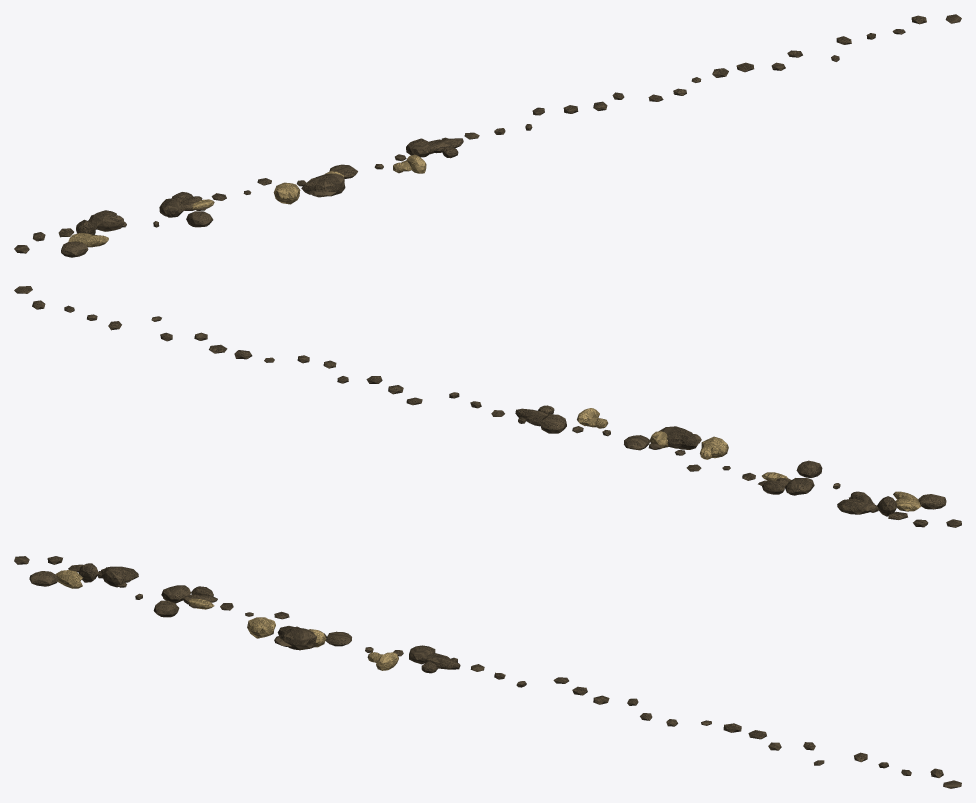
File: south-east-shore.glb
3 renders of one model, top to bottom at view 1: azimuth 30°, elevation 25°; view 2: azimuth 150°, elevation 25°; view 3: azimuth 330°, elevation 25°, orthographic.
Visible parts, largest first — view 1: south-east-shore; view 2: south-east-shore; view 3: south-east-shore.
Boxes of the visible parts, box(x1,y1,x2,y2) form: south-east-shore: box(14, 14, 961, 257); south-east-shore: box(14, 286, 961, 527); south-east-shore: box(14, 556, 961, 788).
Size of the model in its own units: 58.07 by 1.2 by 4.26.
Materials: 1 (1 with a texture image).
